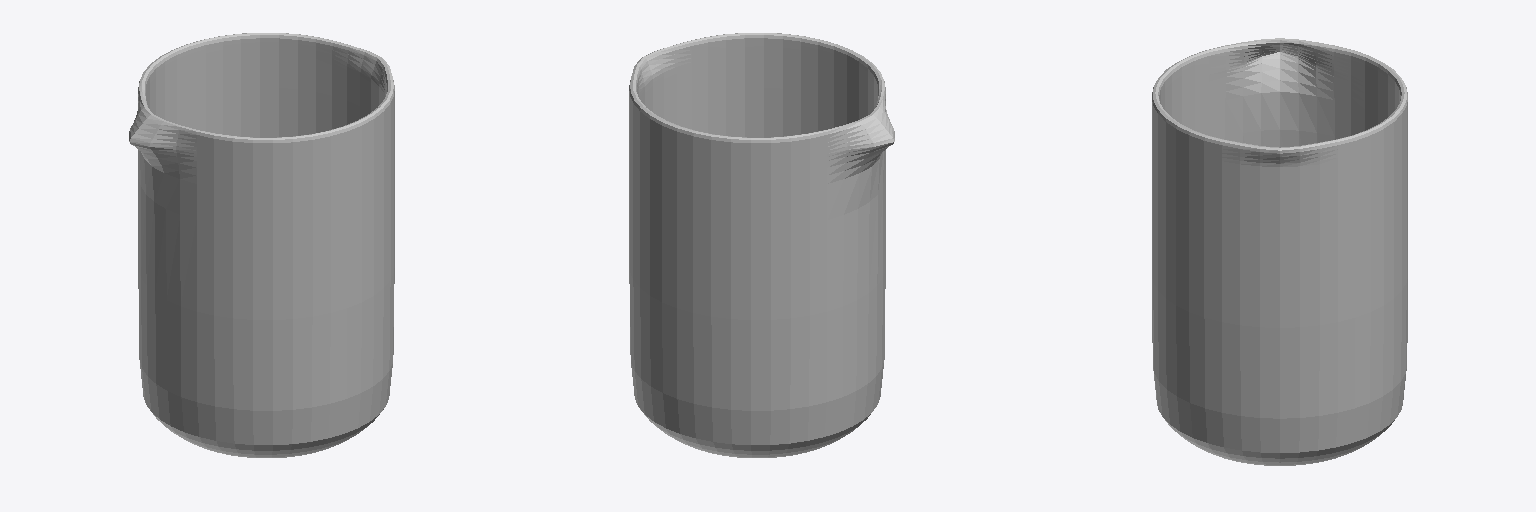
File: Beaker.obj
3 renders of one model, left to right at view 1: azimuth 30°, elevation 25°; view 2: azimuth 150°, elevation 25°; view 3: azimuth 270°, elevation 25°, orthographic.
Parts seen in each view (by area): view 1: pCylinder1; view 2: pCylinder1; view 3: pCylinder1.
Boxes of the visible parts, x1=… form: pCylinder1: x1=129, y1=33, x2=394, y2=457; pCylinder1: x1=629, y1=33, x2=894, y2=457; pCylinder1: x1=1152, y1=38, x2=1407, y2=465.
Size of the model in its own units: 14.64 by 18.59 by 12.84.